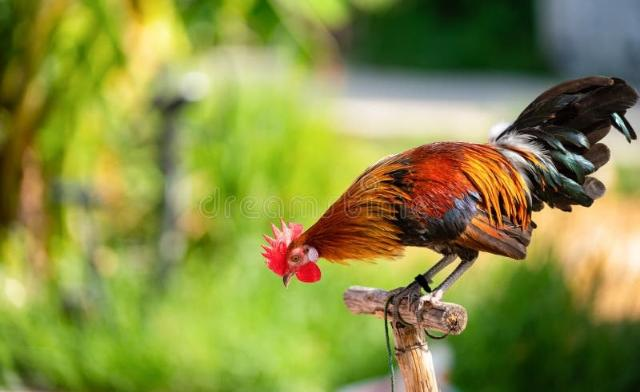Chicken: (260, 75, 640, 326)
